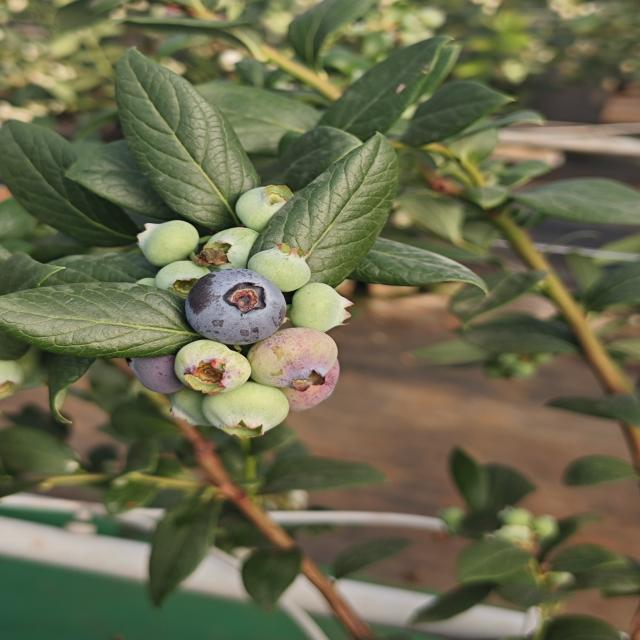ripe: (182, 266, 288, 346), (120, 346, 189, 396)
